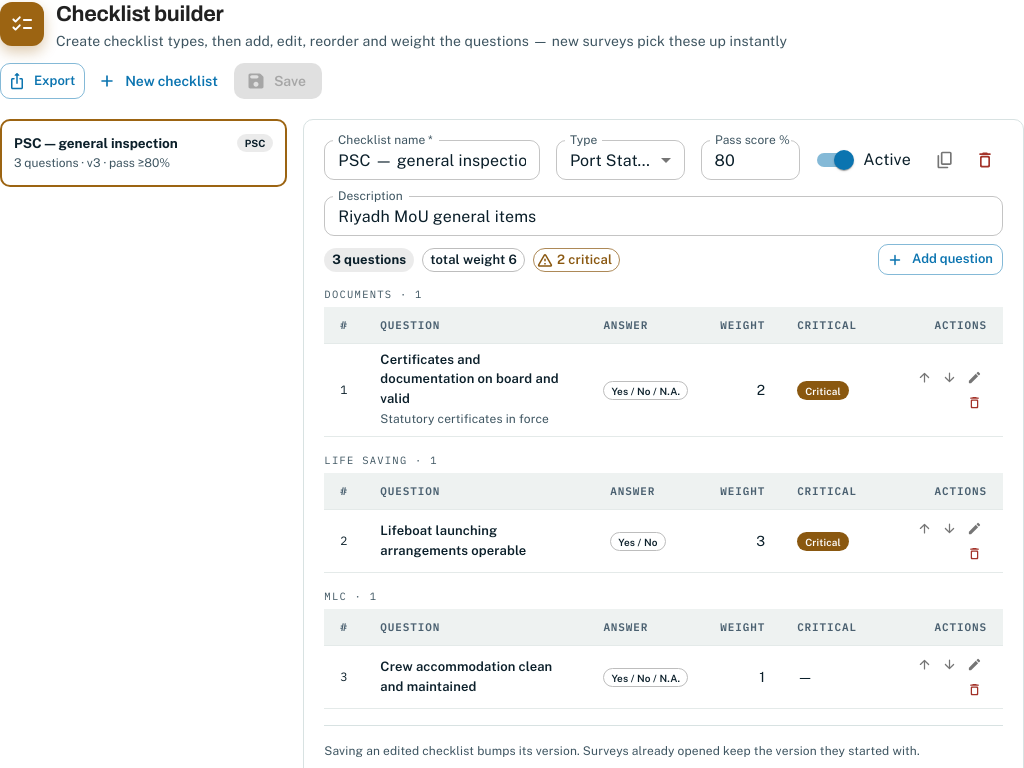
it: Checklist builder › opens a template, groups its questions by section and adds one
The image size is (1024, 768).
Expected: the button with aria-label "Open checklist PSC — general inspection" is shown, [0, 119, 287, 188]
Expected: the text "3 questions · v3 · pass ≥80%" is shown, [14, 156, 170, 170]
Click the button "Add question" at (941, 260), box [878, 244, 1003, 275]
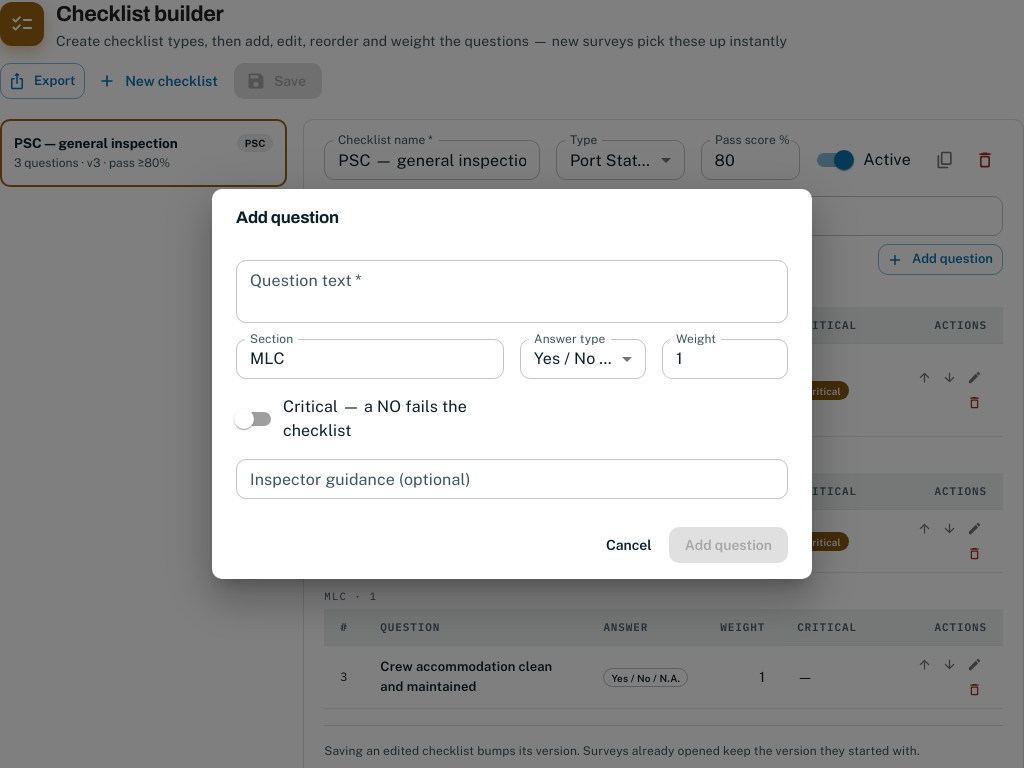
Type "Oil record book up to date" into the text box labelled "Question text *" at (512, 291), box [250, 268, 774, 314]
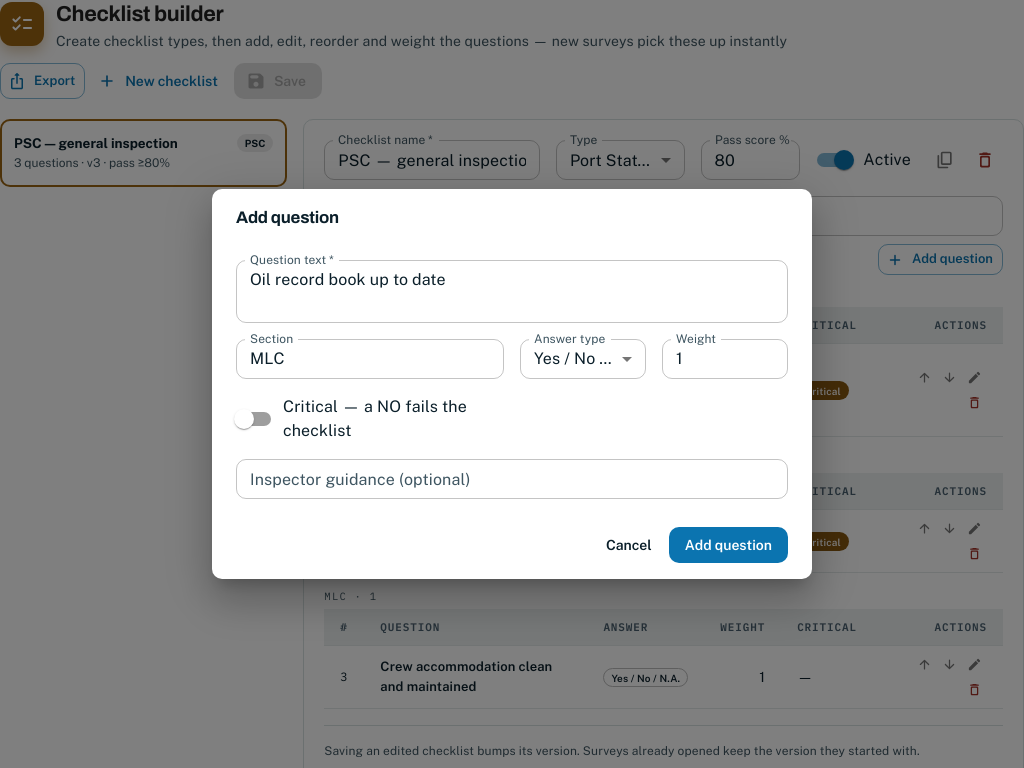
Click the button "Add question" at (728, 545), box [669, 527, 788, 563]
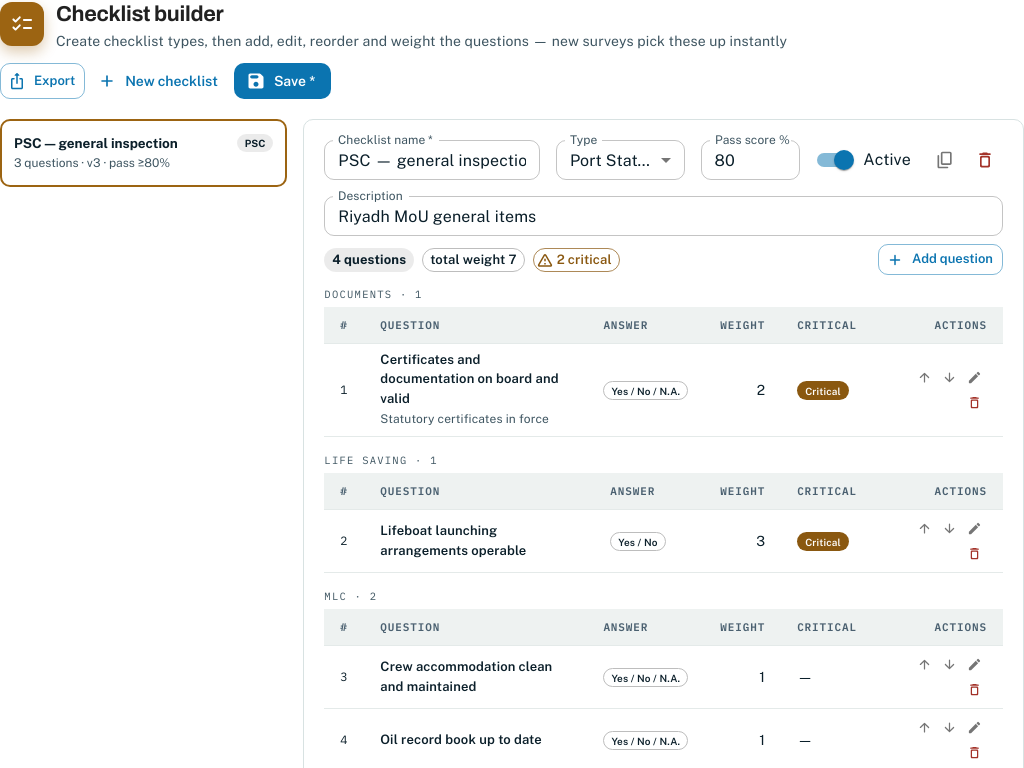
Expected: the dialog is gone
Expected: the text "4 questions" is shown, [332, 252, 406, 267]
Expected: the text "total weight 7" is shown, [423, 250, 524, 269]
